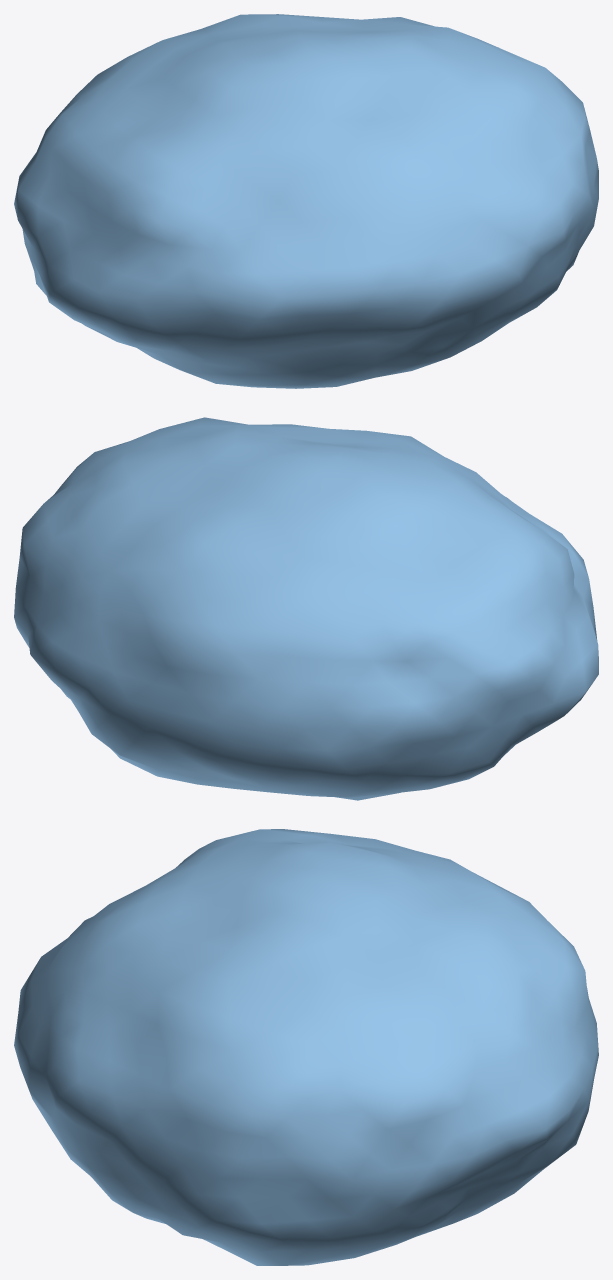
Rendered from pebble.glb.
3 renders of one model, top to bottom at view 1: azimuth 30°, elevation 25°; view 2: azimuth 150°, elevation 25°; view 3: azimuth 270°, elevation 25°, orthographic. The views are drawn at different scales.
Parts seen in each view (by area): view 1: pebble; view 2: pebble; view 3: pebble.
Boxes of the visible parts, <box> form: pebble: <box>14,14,598,388</box>; pebble: <box>14,417,598,800</box>; pebble: <box>14,829,598,1265</box>.
Size of the model in its own units: 2.31 by 1.25 by 2.06.
